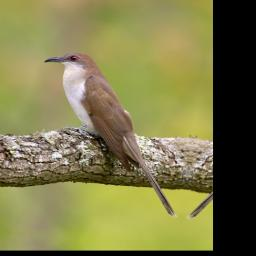Cuckoo: (22, 47, 198, 218)
